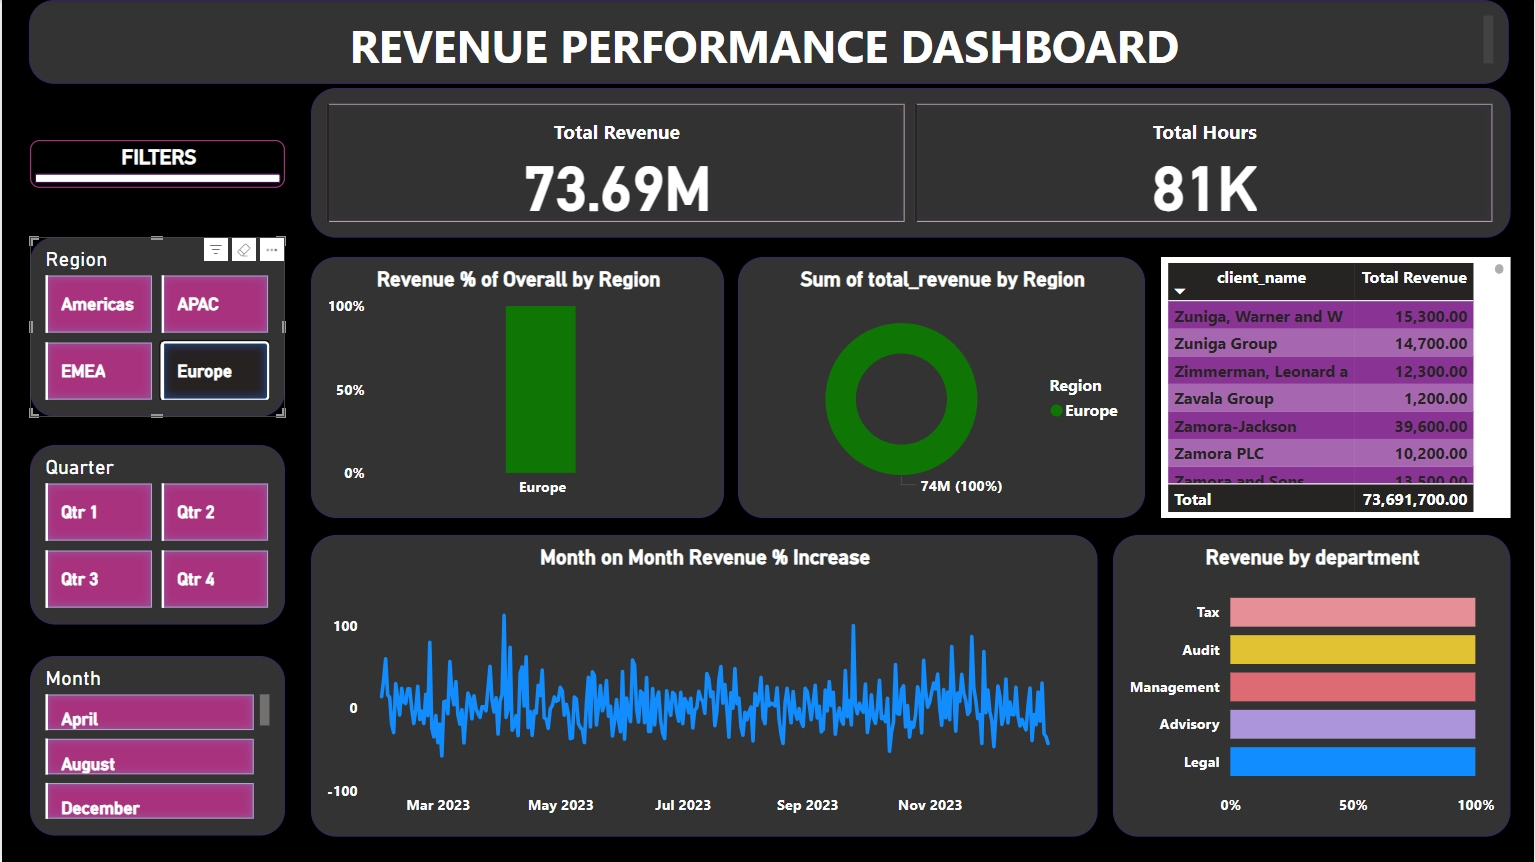

This screenshot's page, from the dashboard's own definition file:
{"tool":"powerbi","page":{"name":"Page 1","canvas":[1280,720],"ordinal":0},"visuals":[{"type":"textbox","box":[22.7,0,1235.9,69.9],"z":0},{"type":"advancedSlicerVisual","fields":{"Values":["branch_data.Region"]},"box":[23.3,198.3,213.3,150],"z":1000},{"type":"advancedSlicerVisual","fields":{"Values":["DateTable.Quarter"]},"box":[23.3,371.7,213.3,150],"z":2000},{"type":"advancedSlicerVisual","fields":{"Values":["DateTable.Month"]},"box":[23.3,548.3,213.3,150],"z":3000},{"type":"shape","title":"FILTERS","box":[23.3,116.7,213.3,40],"z":4000},{"type":"cardVisual","fields":{"Data":["services_data.total_revenue","services_data.hours"]},"box":[258.3,73.3,1001.7,125],"z":5000},{"type":"lineChart","title":"Month on Month Revenue % Increase","fields":{"Category":["services_data.service_date"],"Y":["services_data.Month on Month Revenue % Increase"]},"box":[258.3,446.7,656.7,251.7],"z":5001},{"type":"hundredPercentStackedBarChart","title":" Revenue by department","fields":{"Category":["services_data.department"],"Y":["services_data.total_revenue"]},"box":[928.3,446.7,331.7,251.7],"z":5002},{"type":"hundredPercentStackedColumnChart","title":"Revenue % of Overall by Region","fields":{"Category":["branch_data.Region"],"Y":["services_data.Revenue % of Overall by Region"]},"box":[258.3,215,345,218.3],"z":5003},{"type":"donutChart","fields":{"Category":["branch_data.Region"],"Y":["services_data.total_revenue"]},"box":[615,215,340,218.3],"z":5004},{"type":"tableEx","fields":{"Values":["services_data.client_name","services_data.Total Revenue"]},"box":[968.3,215,291.7,218.3],"z":5005}]}

Visuals, with their boxes in screenshot pixels (x1, y1, x2, y2), scaled from the page's 1280x720 canvas onto the 1535x862 screenshot:
textbox: l=27, t=0, r=1509, b=84
advancedSlicerVisual - branch_data.Region: l=28, t=237, r=284, b=417
advancedSlicerVisual - DateTable.Quarter: l=28, t=445, r=284, b=625
advancedSlicerVisual - DateTable.Month: l=28, t=656, r=284, b=836
"FILTERS" shape: l=28, t=140, r=284, b=188
cardVisual - services_data.total_revenue x services_data.hours: l=310, t=88, r=1511, b=237
"Month on Month Revenue % Increase" lineChart: l=310, t=535, r=1097, b=836
" Revenue by department" hundredPercentStackedBarChart: l=1113, t=535, r=1511, b=836
"Revenue % of Overall by Region" hundredPercentStackedColumnChart: l=310, t=257, r=723, b=519
donutChart - branch_data.Region x services_data.total_revenue: l=738, t=257, r=1145, b=519
tableEx - services_data.client_name x services_data.Total Revenue: l=1161, t=257, r=1511, b=519
